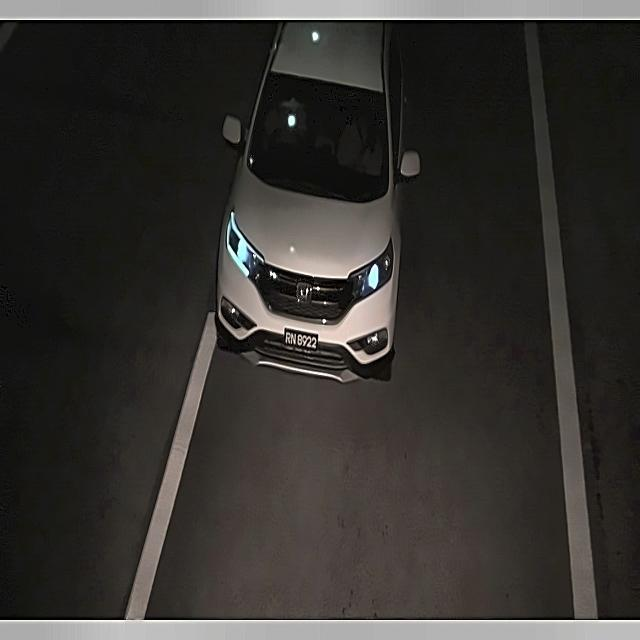car: (282, 325, 321, 358)
